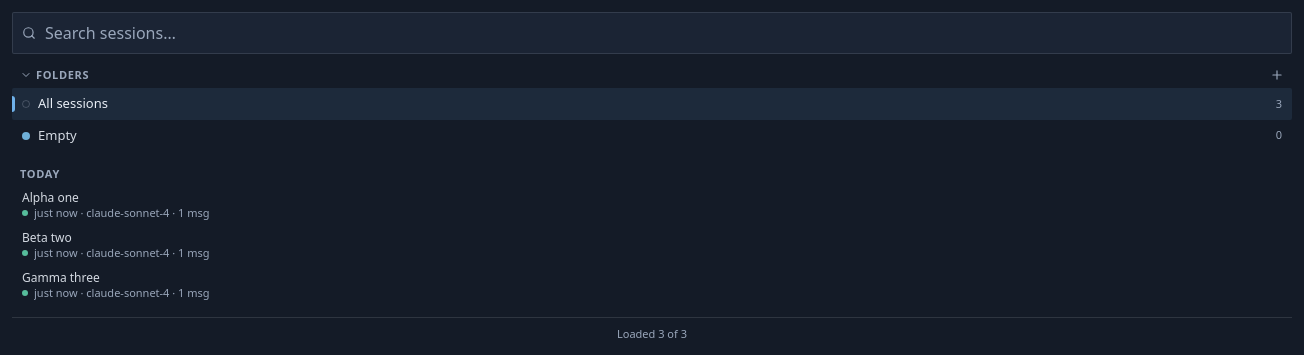
Test: SessionList organization (connected) › shows a filtered-empty state when a project matches no sessions
Click the radio button labelled "Empty 0": (57, 135) [12, 120, 1292, 151]
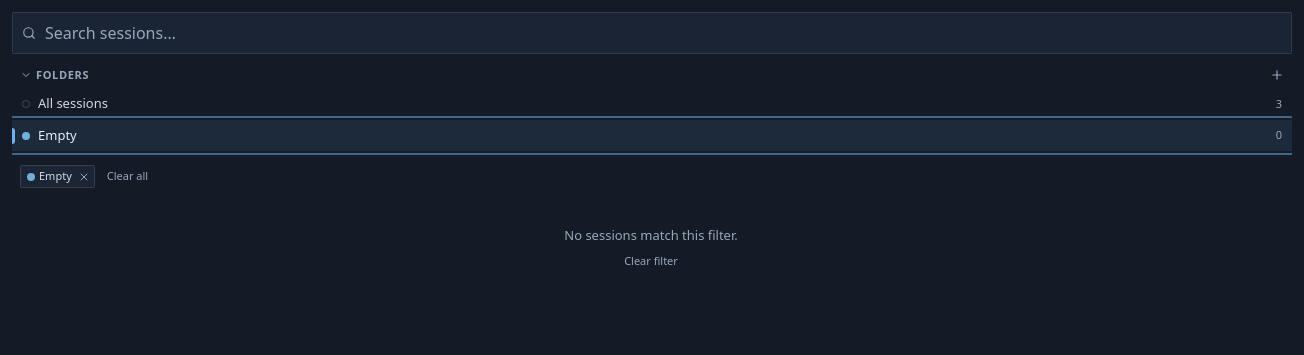
Check: the text "No sessions match this filter." is shown, box [564, 226, 738, 244]
Note: And a clear affordance returns to the full list.
Click the button "Clear filter": (651, 262) [620, 251, 682, 272]
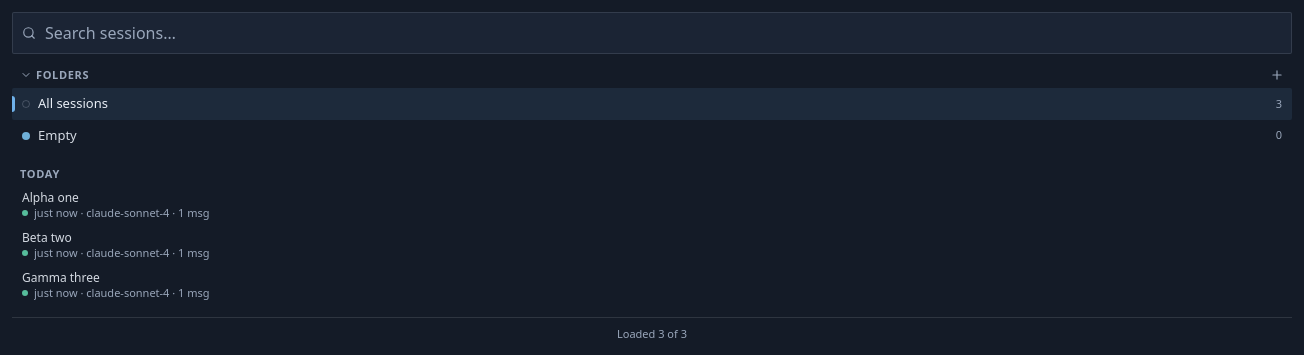
Check: the text "Alpha one" is shown, box [22, 189, 79, 206]
